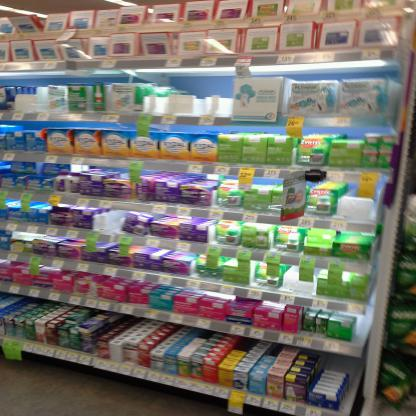Void: (174, 82, 230, 113), (342, 187, 370, 222), (332, 356, 350, 371)
